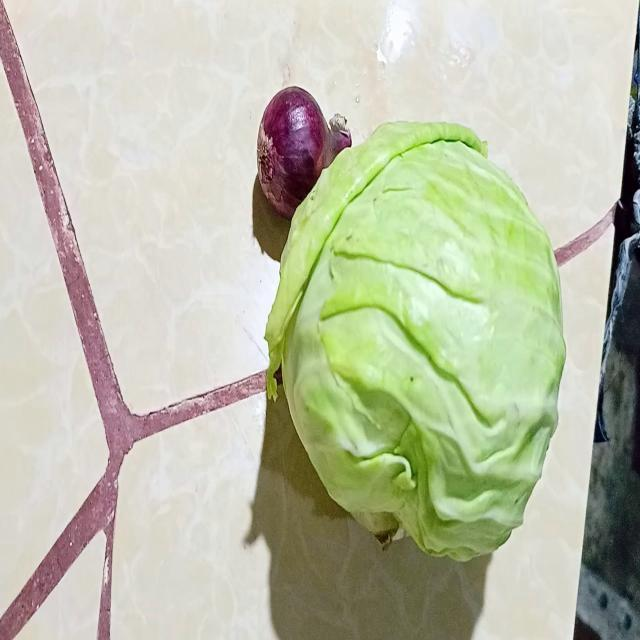cabbage: (257, 112, 566, 587)
onion: (257, 87, 352, 224)
